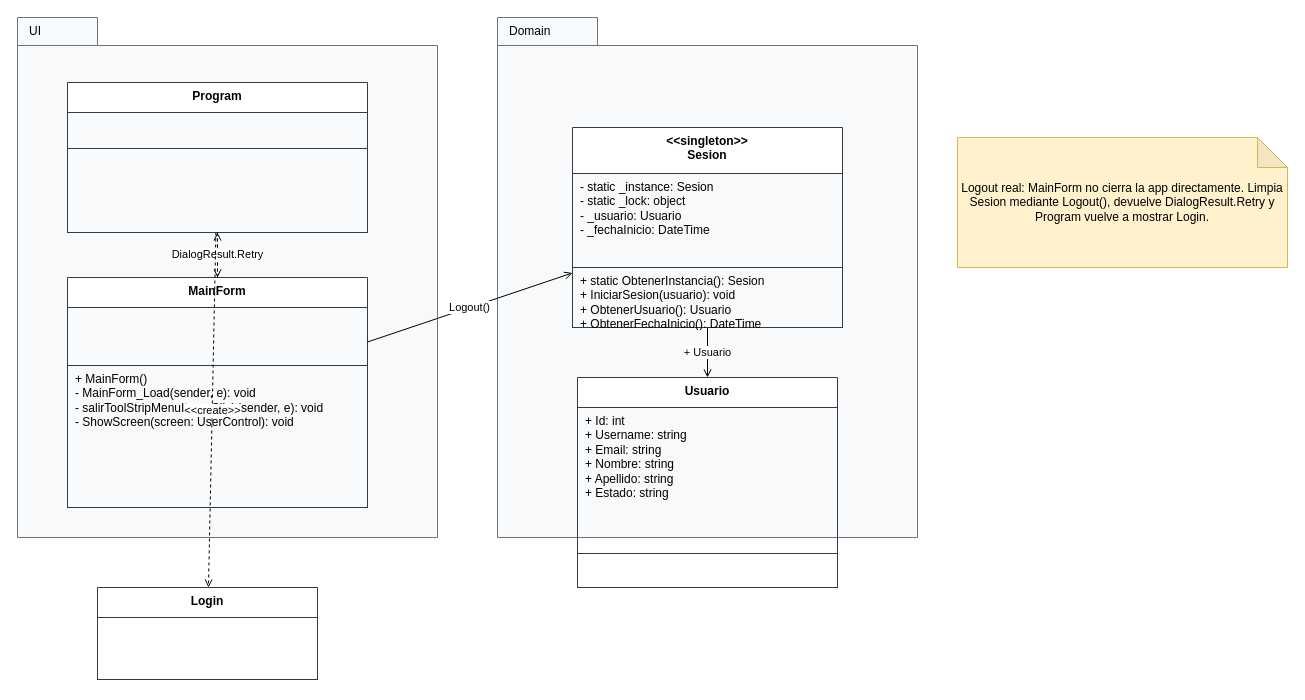
The diagram is 1305 pixels wide and 700 high, and some of its shapes have lost their labels. Here are the shapes that lost their labels. From the top down, the centre of each, then its label:
(x=217, y=130): - mostrarLogin: bool
(x=217, y=190): + Main(): void + Application.Run(mainForm): void
(x=217, y=336): - contentPanel: Panel - lblUsuario: Label
(x=707, y=570): + ToString(): string
(x=207, y=648): + Login()
